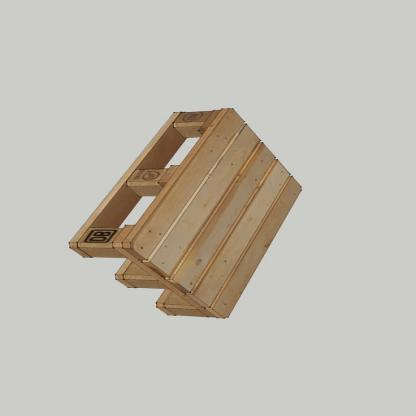BoxFace: (59, 106, 310, 326)
